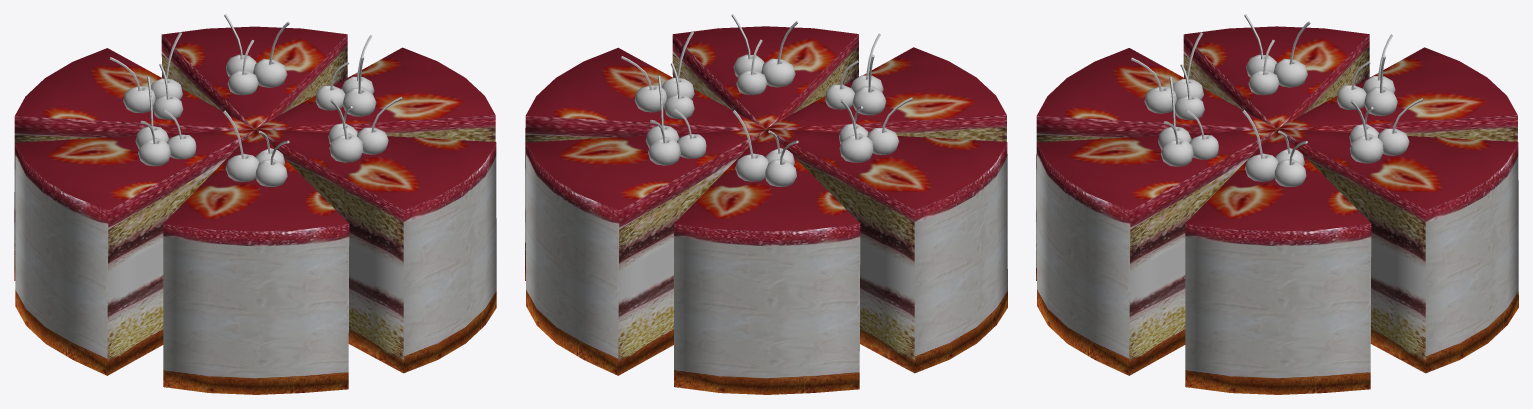
File: cake 6.fbx
3 renders of one model, left to right at view 1: azimuth 30°, elevation 25°; view 2: azimuth 150°, elevation 25°; view 3: azimuth 270°, elevation 25°, orthographic.
Visible parts, largest first — view 1: cake6; view 2: cake6; view 3: cake6.
Boxes of the visible parts, x1,y1,x2,y2 form: cake6: (14,14,496,394); cake6: (525,14,1007,394); cake6: (1036,14,1518,394).
Bounding box in the file's own units: 56.95 × 29.59 × 56.64.
